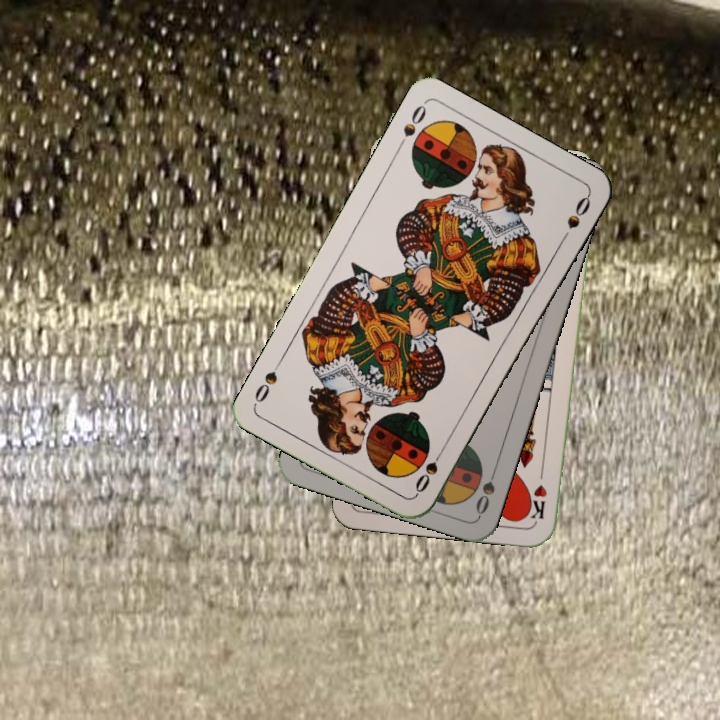HK: (525, 463, 550, 522)
SO: (411, 443, 448, 497), (393, 101, 430, 154), (471, 460, 501, 518)
